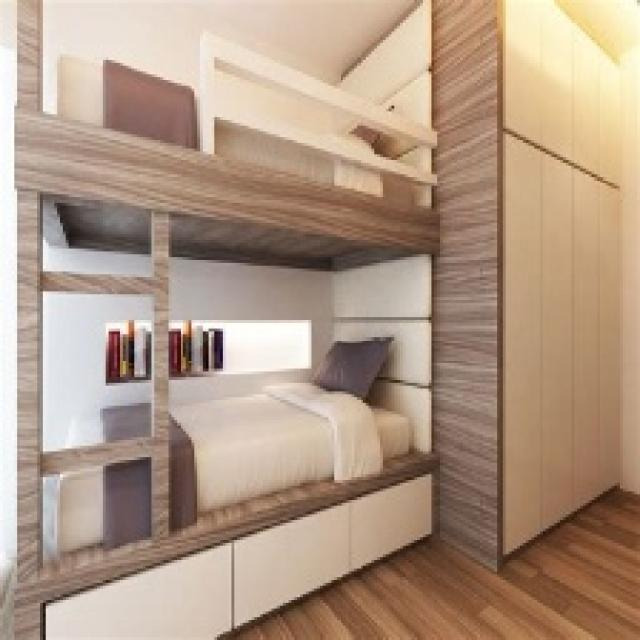Bed: (166, 380, 411, 520)
